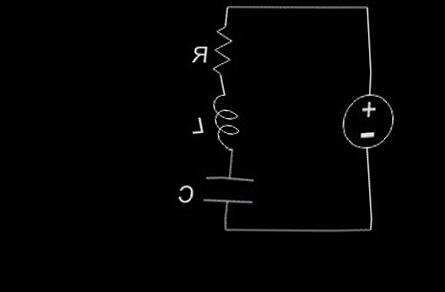Battery: (328, 82, 405, 164)
